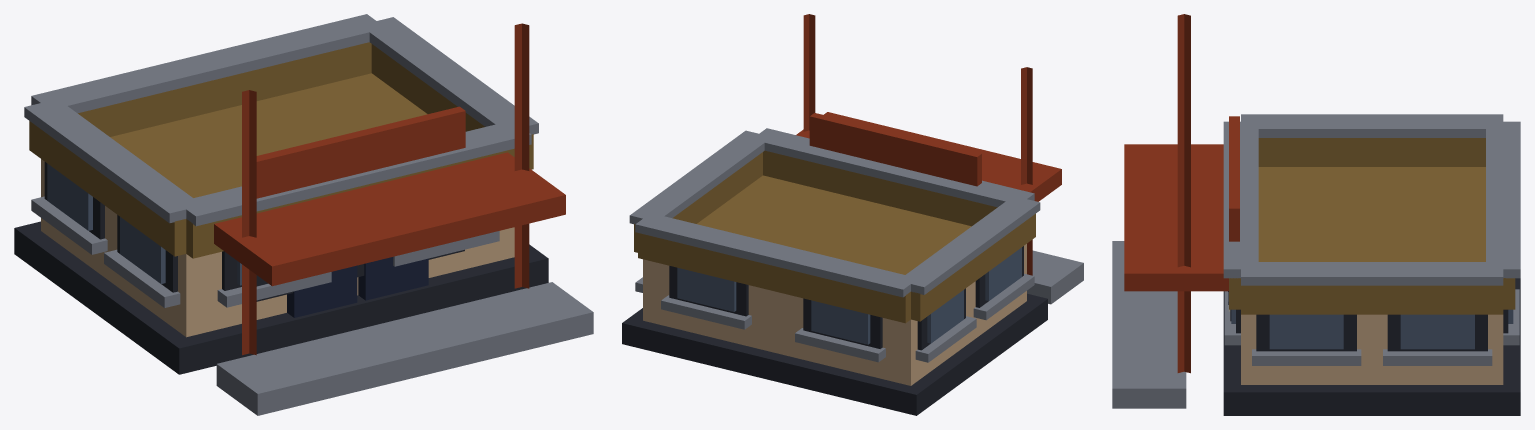
File: kiosk-high.glb
3 renders of one model, left to right at view 1: azimuth 30°, elevation 25°; view 2: azimuth 150°, elevation 25°; view 3: azimuth 270°, elevation 25°, orthographic. The views are drawn at different scales.
Size of the model in its own units: 17.6 by 13 by 18.7.
